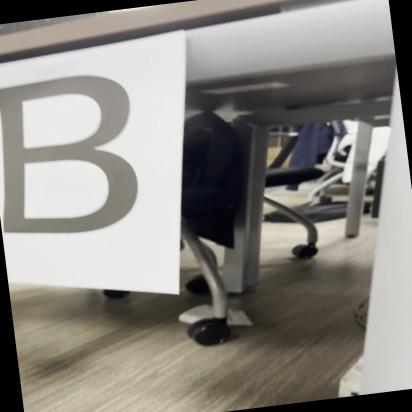seat: (0, 59, 170, 250)
